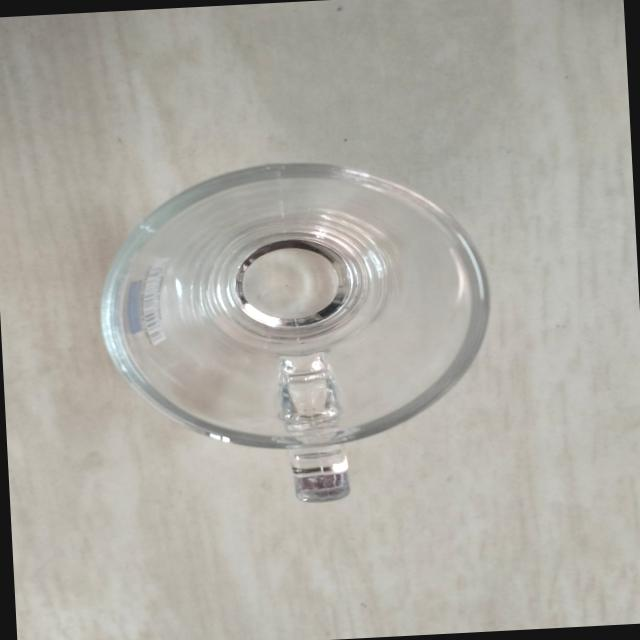glass-VX4N: (91, 152, 500, 514)
